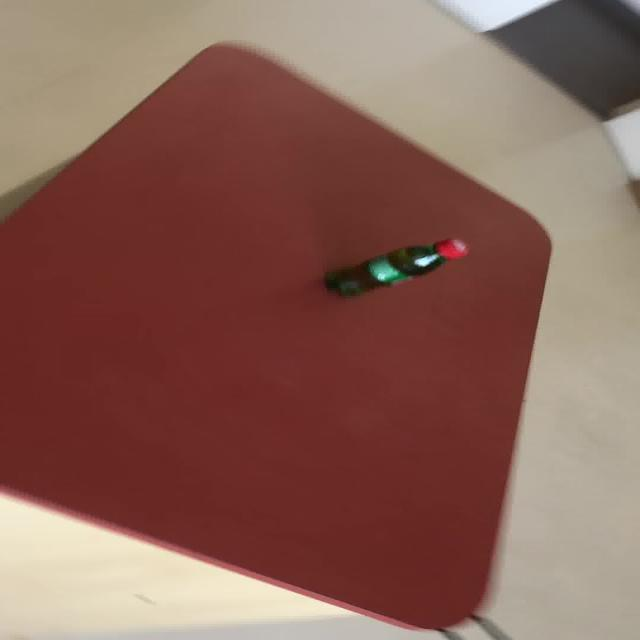guarana: (322, 236, 469, 298)
